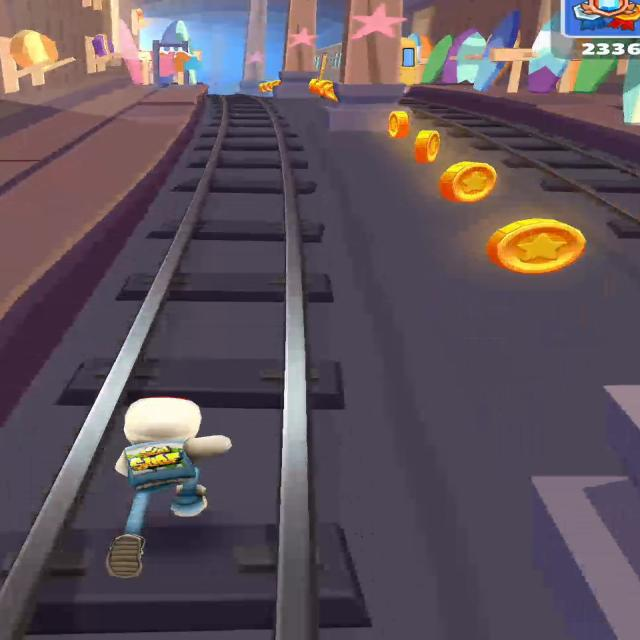block pillar: (327, 0, 405, 132), (275, 0, 317, 98), (240, 0, 267, 93)
train: (315, 43, 343, 82), (399, 38, 422, 85)
